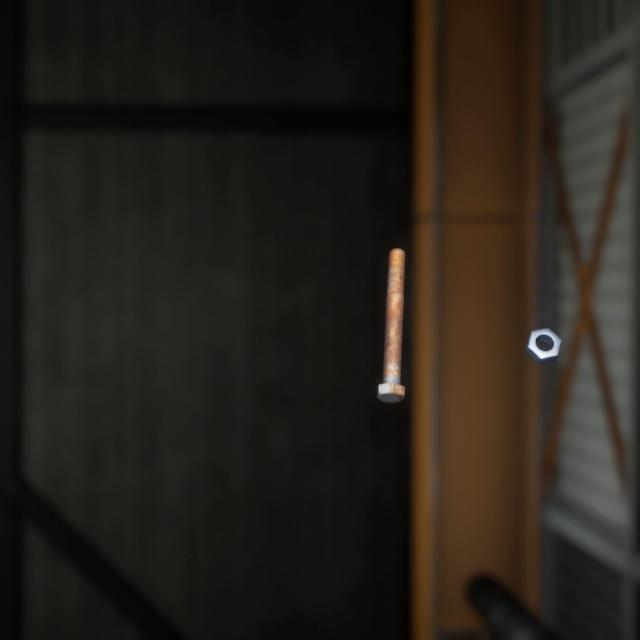bolt: (372, 227, 409, 389)
nut: (520, 305, 565, 350)
